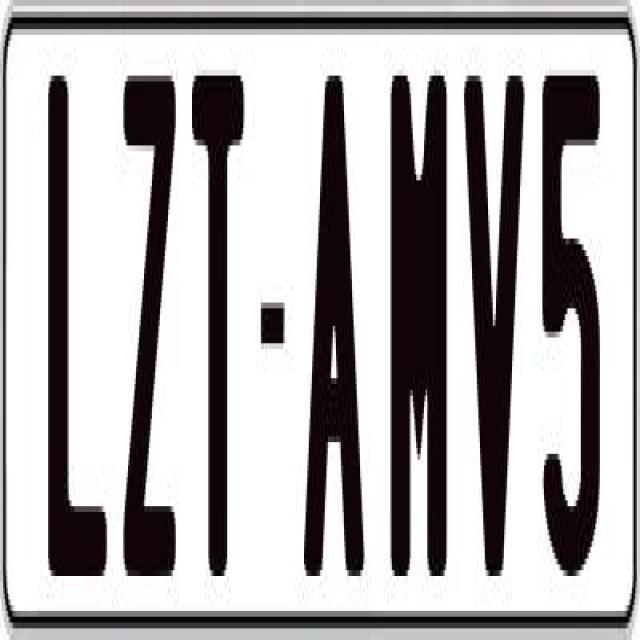5: (542, 64, 605, 582)
A: (303, 58, 362, 588)
L: (46, 70, 112, 582)
M: (387, 70, 445, 600)
T: (192, 75, 245, 606)
V: (462, 70, 528, 606)
Z: (122, 75, 174, 606)
